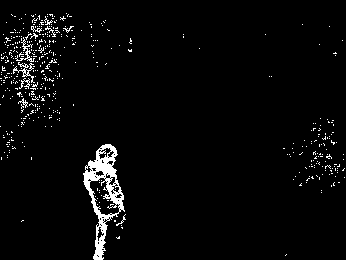person: (84, 144, 128, 260)
